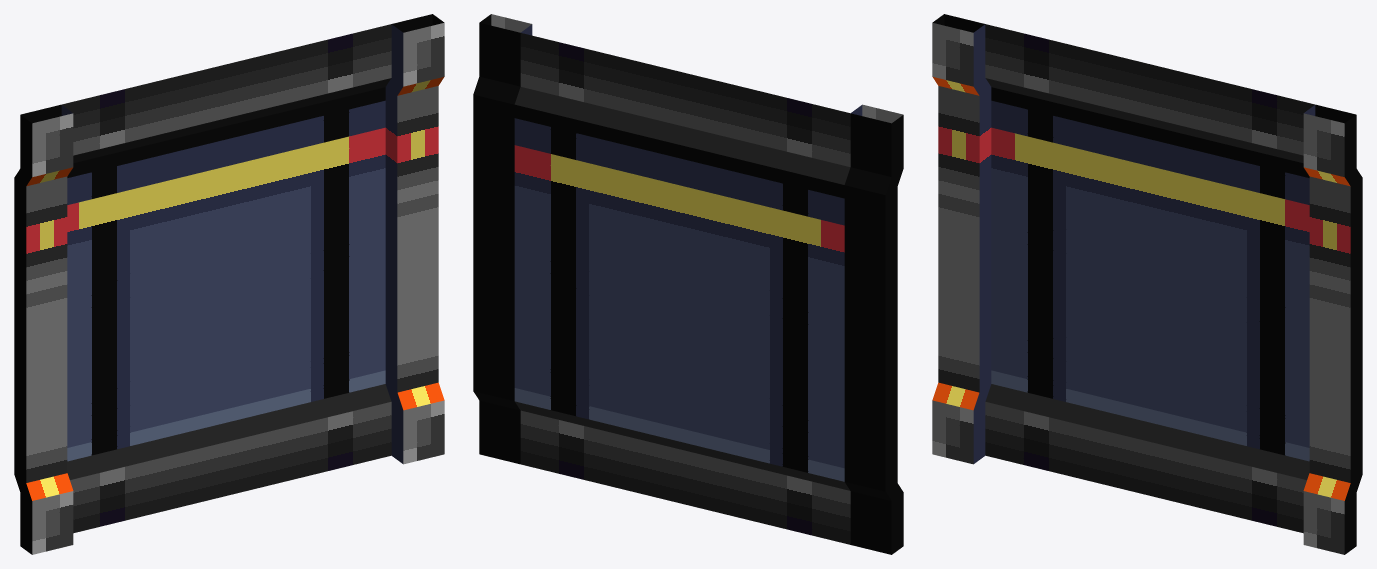
Rendered from Wall1.gltf.
3 views of the same model, side by side, from view 1: azimuth 30°, elevation 25°; view 2: azimuth 150°, elevation 25°; view 3: azimuth 330°, elevation 25° (orthographic).
Visible parts, largest first — view 1: N; view 2: N; view 3: N.
Part boxes in pixels (x1,y1,x2,y2): N: (14,14,444,554); N: (473,14,903,554); N: (932,14,1362,554).
Bounding box in the file's own units: 2 × 2 × 0.1501.
1 material, 1 textured.
